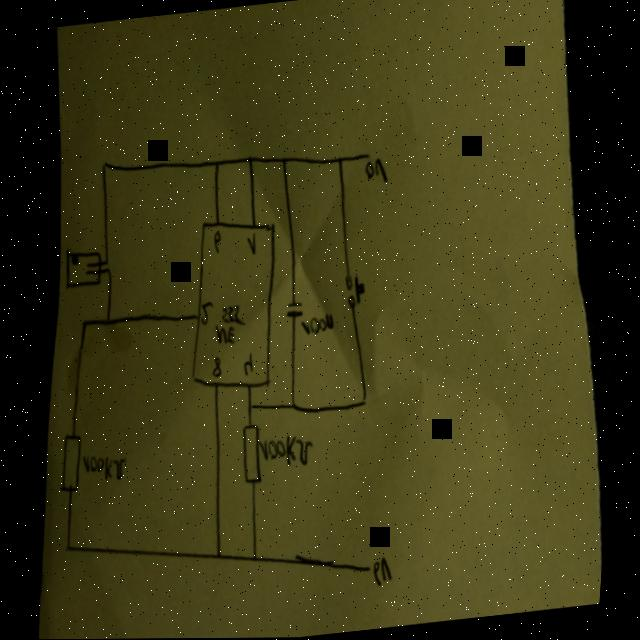capacitor: (286, 301, 308, 319)
junction: (219, 549, 231, 562), (362, 396, 374, 409), (105, 315, 117, 327), (256, 553, 268, 564), (100, 158, 110, 171), (279, 155, 290, 166), (212, 158, 222, 169), (246, 154, 256, 165), (293, 401, 303, 412), (336, 154, 345, 166), (83, 318, 92, 329), (70, 542, 79, 553), (250, 402, 259, 413), (107, 268, 112, 274), (106, 261, 111, 267)
resistor: (59, 432, 92, 494), (242, 421, 270, 486)
switch: (64, 245, 108, 290), (345, 272, 371, 310)
terminal: (370, 564, 379, 575), (364, 151, 373, 160)
text: (261, 433, 320, 470), (85, 450, 134, 483), (214, 305, 250, 346), (302, 312, 338, 336), (376, 555, 401, 589), (363, 157, 390, 185), (201, 301, 219, 326), (213, 356, 228, 379), (245, 352, 258, 377), (213, 231, 226, 256), (247, 232, 260, 256)
